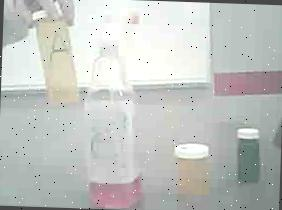Bottle A: (18, 3, 85, 113)
Bottle B: (171, 139, 216, 203)
Bottle C: (231, 125, 265, 189)
hazard: (84, 5, 156, 210)
